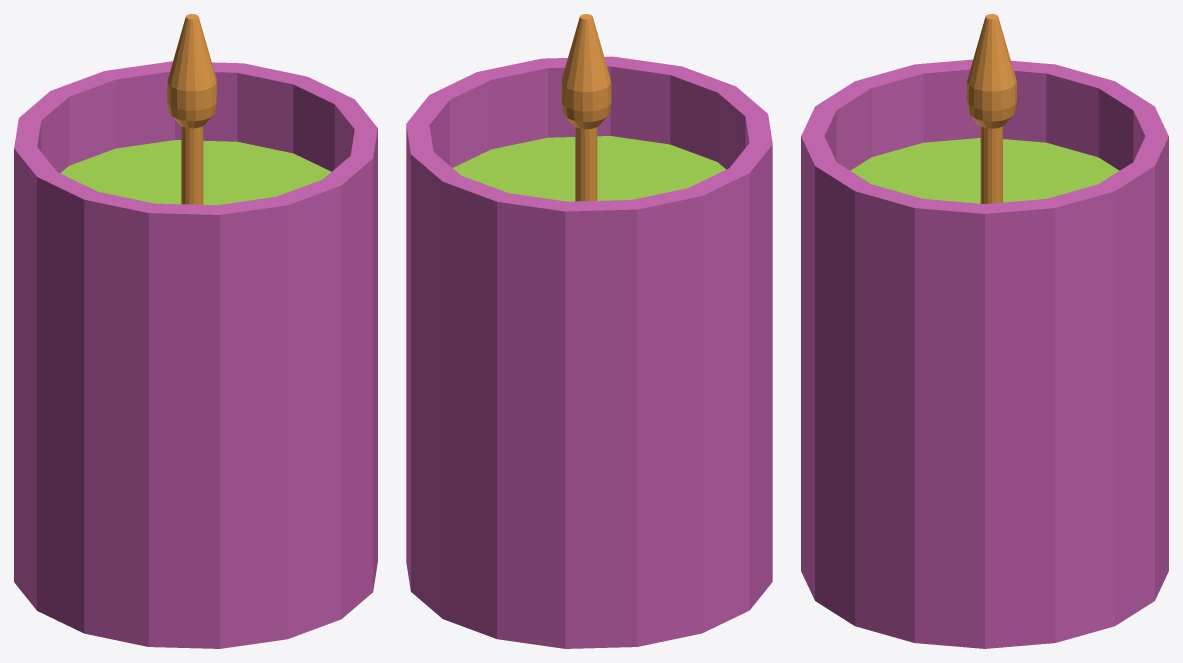
The model's file is BigCandle.fbx.
The picture shows the model from 3 angles, left to right: view 1: azimuth 30°, elevation 25°; view 2: azimuth 150°, elevation 25°; view 3: azimuth 270°, elevation 25°; orthographic projection.
Parts seen in each view (by area): view 1: BigCandle; view 2: BigCandle; view 3: BigCandle.
Part boxes in pixels (x1=…): BigCandle: x1=14, y1=14, x2=377, y2=648; BigCandle: x1=406, y1=14, x2=772, y2=648; BigCandle: x1=801, y1=14, x2=1168, y2=648.
Bounding box in the file's own units: 132 × 220 × 132.
